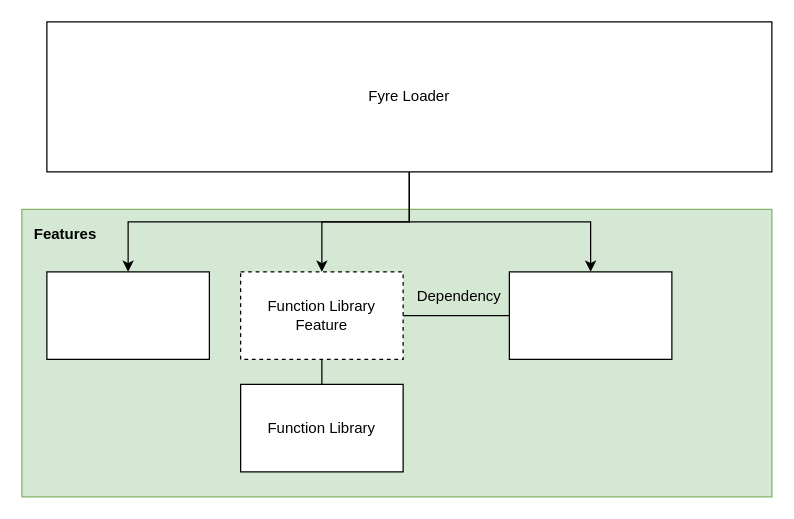
The diagram is 794 pixels wide and 519 high, and some of its shapes have lost their labels. Each missing label, with the box of its shape:
Feature 1: (46, 271, 209, 359)
Feature 2: (508, 271, 672, 359)
